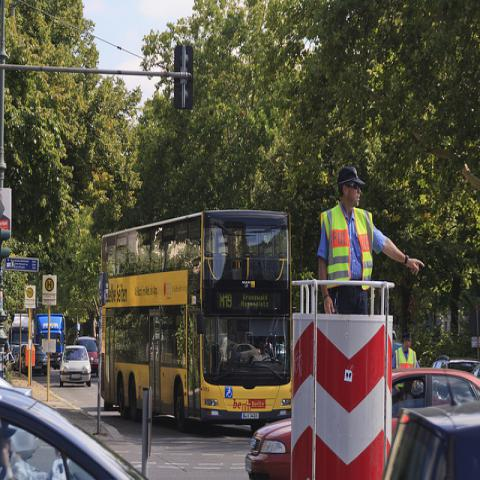bus: (100, 212, 292, 434)
car: (244, 366, 479, 479), (1, 386, 145, 474), (383, 403, 479, 479), (59, 345, 92, 388), (442, 358, 480, 386), (74, 336, 99, 376), (21, 342, 47, 374), (12, 345, 20, 370)
